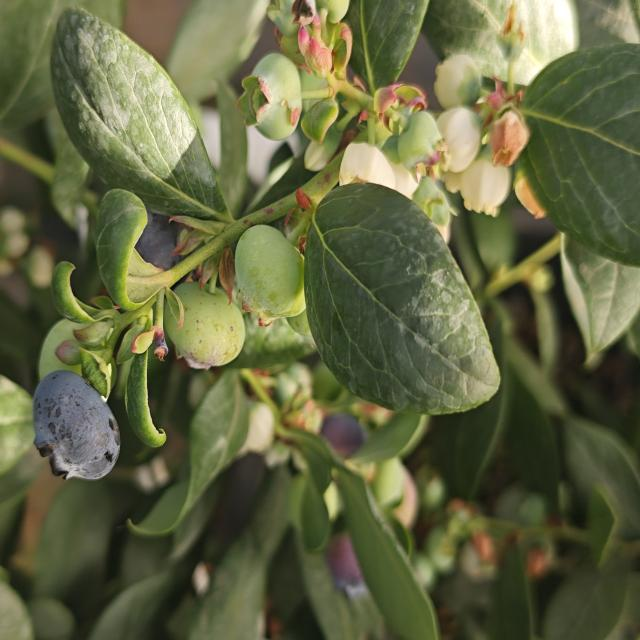ripe: (27, 365, 124, 490), (320, 515, 388, 618), (118, 190, 190, 275), (312, 396, 373, 454)
